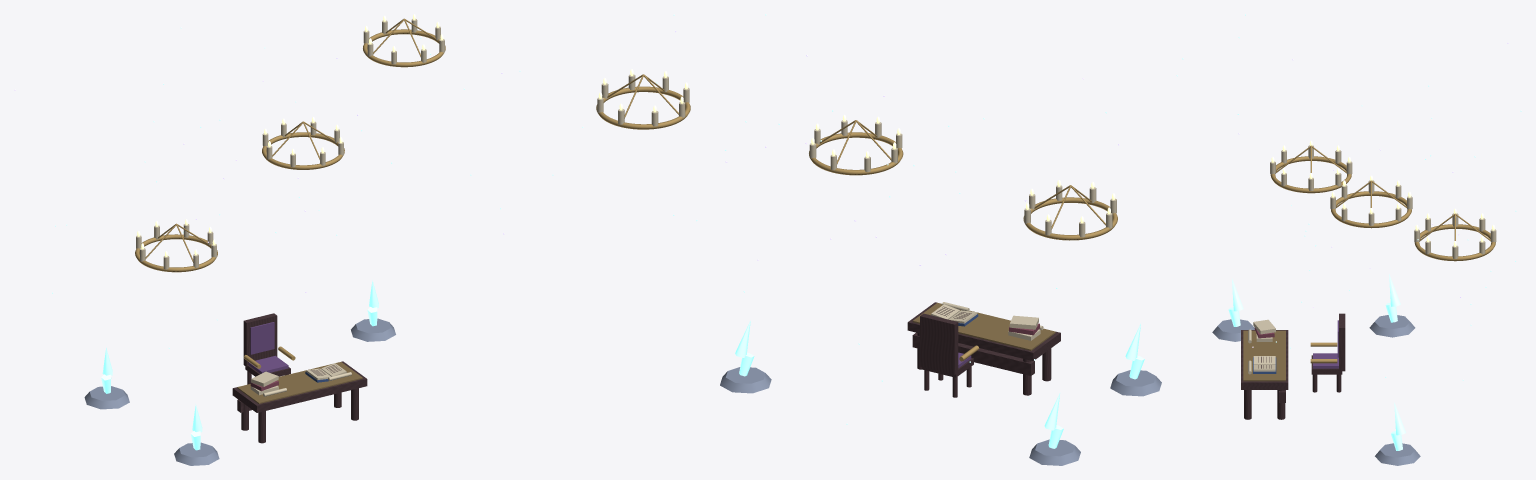
The model's file is archive-decorations.glb.
The picture shows the model from 3 angles, left to right: view 1: azimuth 30°, elevation 25°; view 2: azimuth 150°, elevation 25°; view 3: azimuth 270°, elevation 25°; orthographic projection. The views are drawn at different scales.
Visible parts, largest first — view 1: ArchiveReadingFurniture_edge, ReadingDesk_wood, ReadingDesk_leather, ArchiveReadingFurniture_wood, ArchiveReadingFurniture_violet, CandleChandelier_-3.4_gold, CandleChandelier_3.1_gold, CandleChandelier_0_gold, ArchiveReadingFurniture_glow, ReadingDesk_paper, CandleChandelier_3.1_paper, CandleChandelier_0_paper (+1 smaller); view 2: ReadingDesk_wood, ArchiveReadingFurniture_edge, ArchiveReadingFurniture_wood, ReadingDesk_leather, ArchiveReadingFurniture_glow, CandleChandelier_3.1_gold, CandleChandelier_-3.4_gold, CandleChandelier_0_gold, ReadingDesk_paper, CandleChandelier_3.1_paper, CandleChandelier_0_paper, CandleChandelier_-3.4_paper; view 3: ArchiveReadingFurniture_edge, ReadingDesk_leather, ReadingDesk_wood, ArchiveReadingFurniture_glow, CandleChandelier_3.1_gold, CandleChandelier_0_gold, CandleChandelier_-3.4_gold, ArchiveReadingFurniture_wood, ReadingDesk_paper, CandleChandelier_0_paper, CandleChandelier_3.1_paper, CandleChandelier_-3.4_paper (+1 smaller).
Boxes of the visible parts, bbox=[...] form: ArchiveReadingFurniture_edge: bbox=[84, 318, 395, 465]; ReadingDesk_wood: bbox=[232, 361, 367, 443]; ReadingDesk_leather: bbox=[237, 362, 362, 403]; ArchiveReadingFurniture_wood: bbox=[243, 313, 290, 384]; ArchiveReadingFurniture_violet: bbox=[248, 322, 288, 373]; CandleChandelier_-3.4_gold: bbox=[135, 223, 217, 272]; CandleChandelier_3.1_gold: bbox=[363, 18, 445, 67]; CandleChandelier_0_gold: bbox=[262, 121, 344, 169]; ArchiveReadingFurniture_glow: bbox=[101, 280, 378, 450]; ReadingDesk_paper: bbox=[250, 363, 351, 396]; CandleChandelier_3.1_paper: bbox=[363, 19, 444, 64]; CandleChandelier_0_paper: bbox=[262, 121, 343, 167]; ReadingDesk_wood: bbox=[907, 302, 1060, 395]; ArchiveReadingFurniture_edge: bbox=[720, 367, 1161, 465]; ArchiveReadingFurniture_wood: bbox=[920, 313, 973, 397]; ReadingDesk_leather: bbox=[912, 302, 1055, 350]; ArchiveReadingFurniture_glow: bbox=[735, 320, 1144, 448]; CandleChandelier_3.1_gold: bbox=[596, 74, 690, 129]; CandleChandelier_-3.4_gold: bbox=[1023, 185, 1117, 240]; CandleChandelier_0_gold: bbox=[809, 120, 903, 175]; ReadingDesk_paper: bbox=[931, 302, 1043, 340]; CandleChandelier_3.1_paper: bbox=[597, 74, 689, 126]; CandleChandelier_0_paper: bbox=[809, 120, 902, 172]; CandleChandelier_-3.4_paper: bbox=[1024, 185, 1116, 237]; ArchiveReadingFurniture_edge: bbox=[1212, 315, 1420, 465]; ReadingDesk_leather: bbox=[1243, 330, 1285, 381]; ReadingDesk_wood: bbox=[1241, 330, 1288, 419]; ArchiveReadingFurniture_glow: bbox=[1228, 274, 1405, 450]; CandleChandelier_3.1_gold: bbox=[1414, 213, 1495, 261]; CandleChandelier_0_gold: bbox=[1331, 180, 1411, 228]; CandleChandelier_-3.4_gold: bbox=[1270, 145, 1351, 193]; ArchiveReadingFurniture_wood: bbox=[1311, 313, 1345, 392]; ReadingDesk_paper: bbox=[1248, 319, 1275, 374]; CandleChandelier_0_paper: bbox=[1330, 180, 1412, 225]; CandleChandelier_3.1_paper: bbox=[1414, 213, 1496, 258]; CandleChandelier_-3.4_paper: bbox=[1270, 145, 1352, 190].
Bounding box in the file's own units: 9.16 × 6.39 × 5.91.
11 materials, 1 textured.
